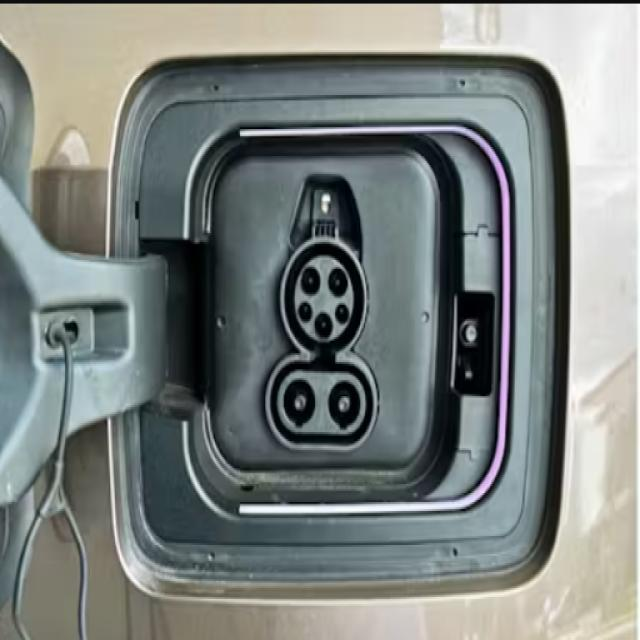CCS1: (240, 217, 421, 493)
